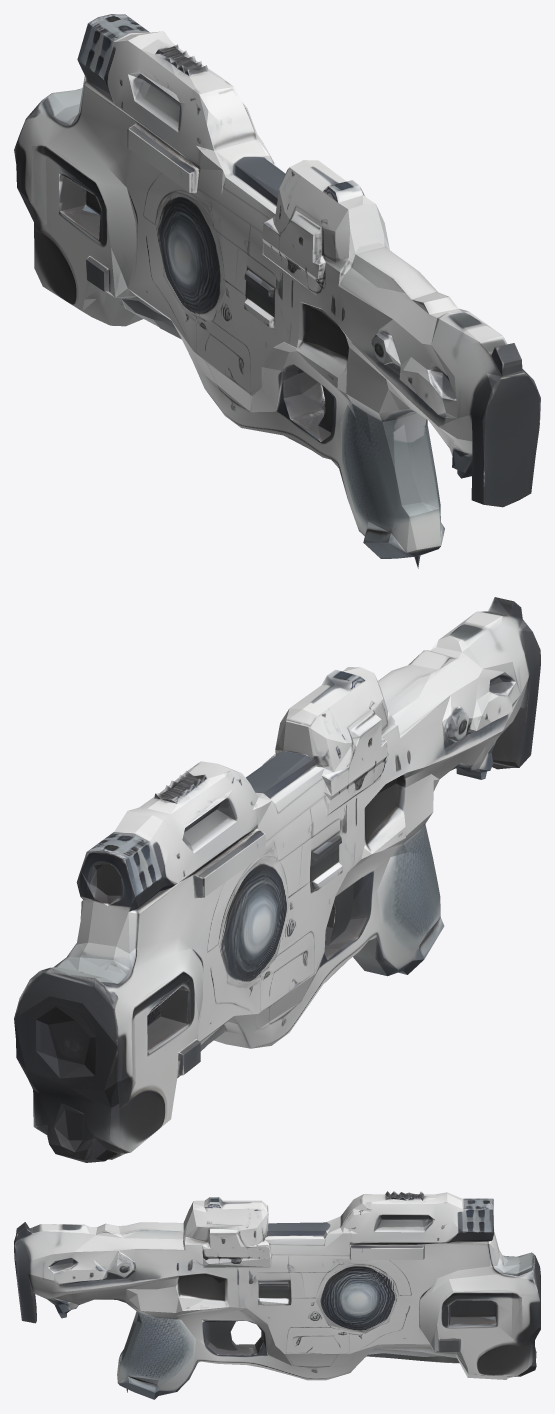
Rendered from pulse_rifle.gltf.
The picture shows the model from 3 angles, top to bottom: view 1: azimuth 30°, elevation 25°; view 2: azimuth 150°, elevation 25°; view 3: azimuth 270°, elevation 25°; orthographic projection. The views are drawn at different scales.
Parts seen in each view (by area): view 1: model; view 2: model; view 3: model.
Part boxes in pixels (left/top/right/bottom): model: left=14, top=14, right=540, bottom=568; model: left=14, top=597, right=540, bottom=1162; model: left=14, top=1191, right=540, bottom=1399.
Size of the model in its own units: 0.2537 by 0.8048 by 1.9.
1 material, 1 textured.
